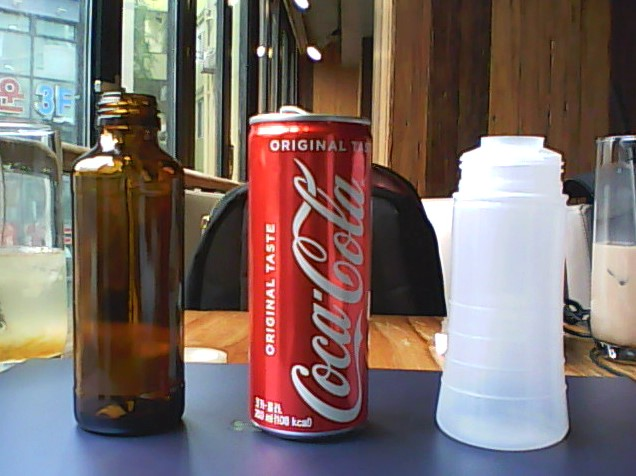Can: (240, 96, 376, 443)
Glass: (68, 84, 188, 442)
Plastic: (432, 125, 577, 454)
